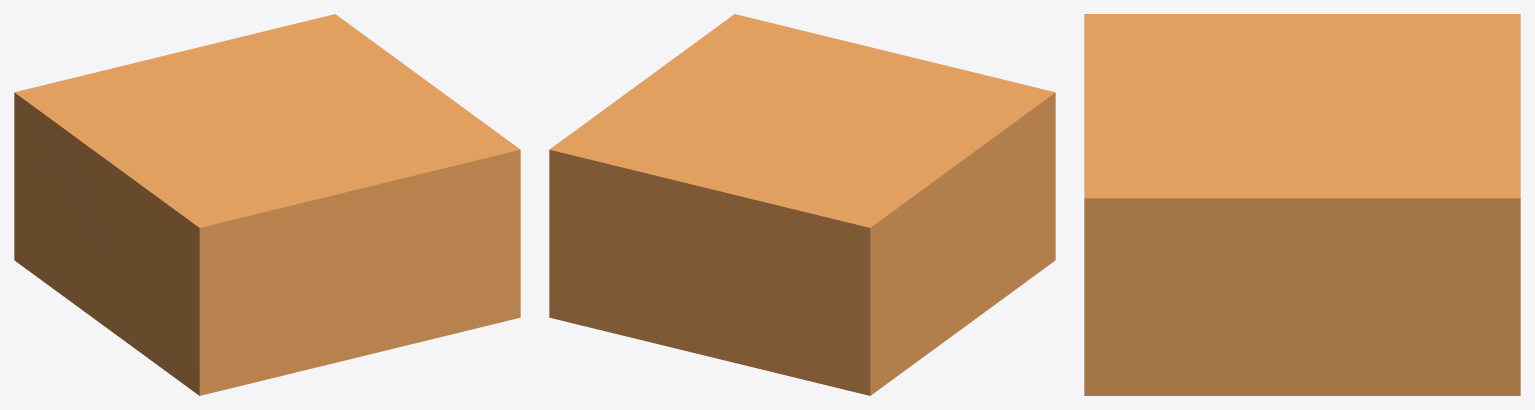
Rendered from Abstract_Castle_Block_Half_Orange_01.fbx.
The picture shows the model from 3 angles, left to right: view 1: azimuth 30°, elevation 25°; view 2: azimuth 150°, elevation 25°; view 3: azimuth 270°, elevation 25°; orthographic projection. The views are drawn at different scales.
Visible parts, largest first — view 1: Model; view 2: Model; view 3: Model.
Boxes of the visible parts, left/top/right/bottom form: Model: left=14, top=14, right=520, bottom=395; Model: left=549, top=14, right=1055, bottom=395; Model: left=1084, top=14, right=1520, bottom=395.
Size of the model in its own units: 1000 by 500 by 1000.
